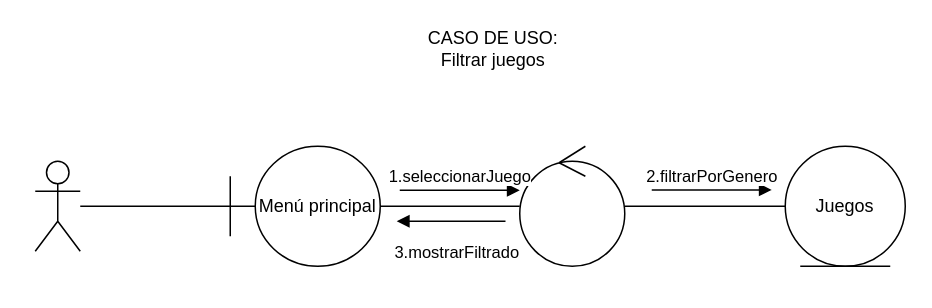
This 932x308 diagram has some shape labels left out. Here are the shapes that lost their labels. From the top down, the centre of each, then its label:
At pixel 57 205: "Jugador".
At pixel 571 205: "Gestión juegos".
